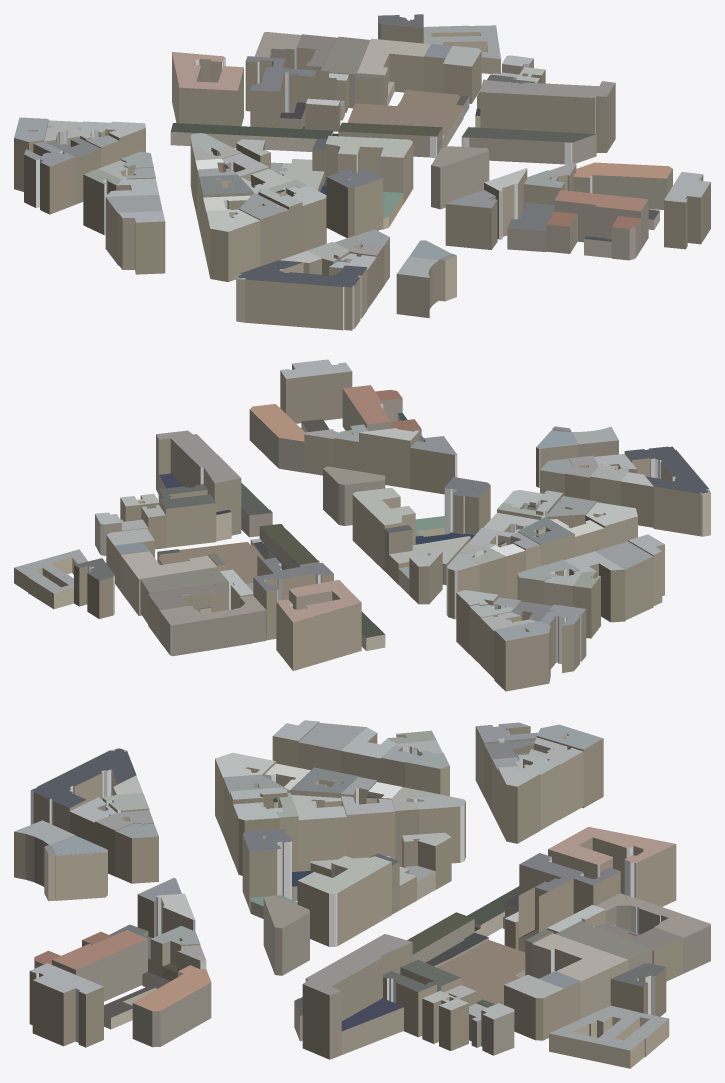
The picture shows the model from 3 angles, top to bottom: view 1: azimuth 30°, elevation 25°; view 2: azimuth 150°, elevation 25°; view 3: azimuth 270°, elevation 25°; orthographic projection. The views are drawn at different scales.
Visible parts, largest first — view 1: tuile; view 2: tuile; view 3: tuile.
Part boxes in pixels (x1,y1,x2,y2): tuile: (14,14,710,330); tuile: (14,359,710,691); tuile: (14,720,710,1068).
Size of the model in its own units: 277 by 31.37 by 282.
